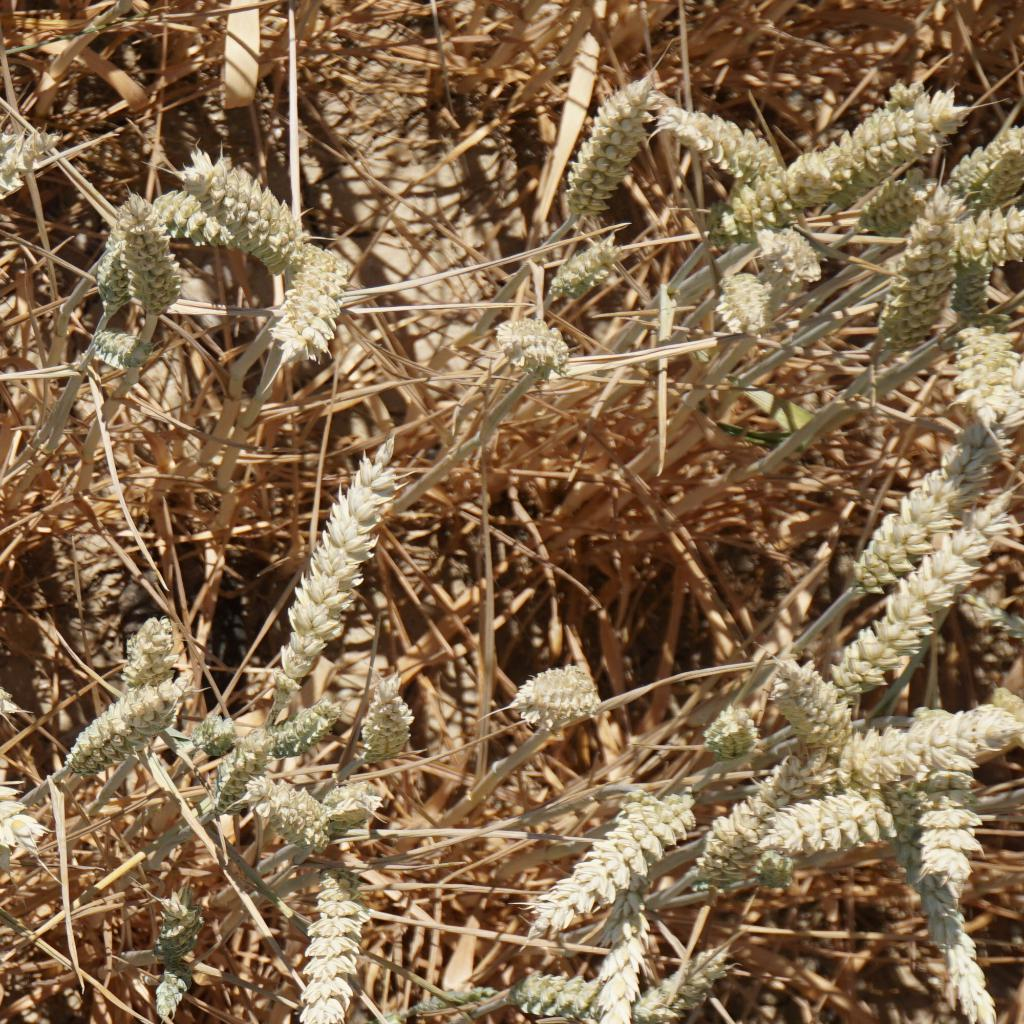0-0: (683, 80, 969, 268), (263, 464, 386, 689), (842, 531, 994, 675), (537, 770, 691, 911), (823, 456, 1016, 561), (891, 817, 982, 1024), (555, 74, 661, 224), (850, 700, 1017, 787), (756, 777, 874, 882), (29, 679, 163, 770), (262, 230, 354, 362), (190, 153, 305, 258), (287, 878, 358, 1024), (915, 787, 976, 945), (484, 309, 581, 401), (516, 655, 620, 738), (878, 216, 947, 340), (951, 313, 1024, 429), (657, 94, 774, 165), (939, 108, 1024, 203), (104, 197, 177, 307), (772, 655, 850, 748), (149, 175, 230, 263), (541, 238, 644, 305), (350, 691, 427, 770), (644, 953, 726, 1024), (588, 935, 653, 1024), (143, 876, 214, 956), (758, 204, 823, 291), (83, 316, 173, 377), (314, 774, 393, 842), (251, 763, 318, 838), (945, 195, 1024, 257), (100, 612, 167, 685), (0, 685, 33, 833), (866, 172, 938, 239), (705, 787, 760, 872), (700, 687, 763, 758), (265, 698, 336, 760), (514, 963, 584, 1024), (954, 240, 1004, 318), (709, 265, 763, 330), (195, 709, 262, 761), (208, 754, 256, 821), (90, 228, 132, 301), (145, 963, 193, 1024), (0, 659, 19, 720)
